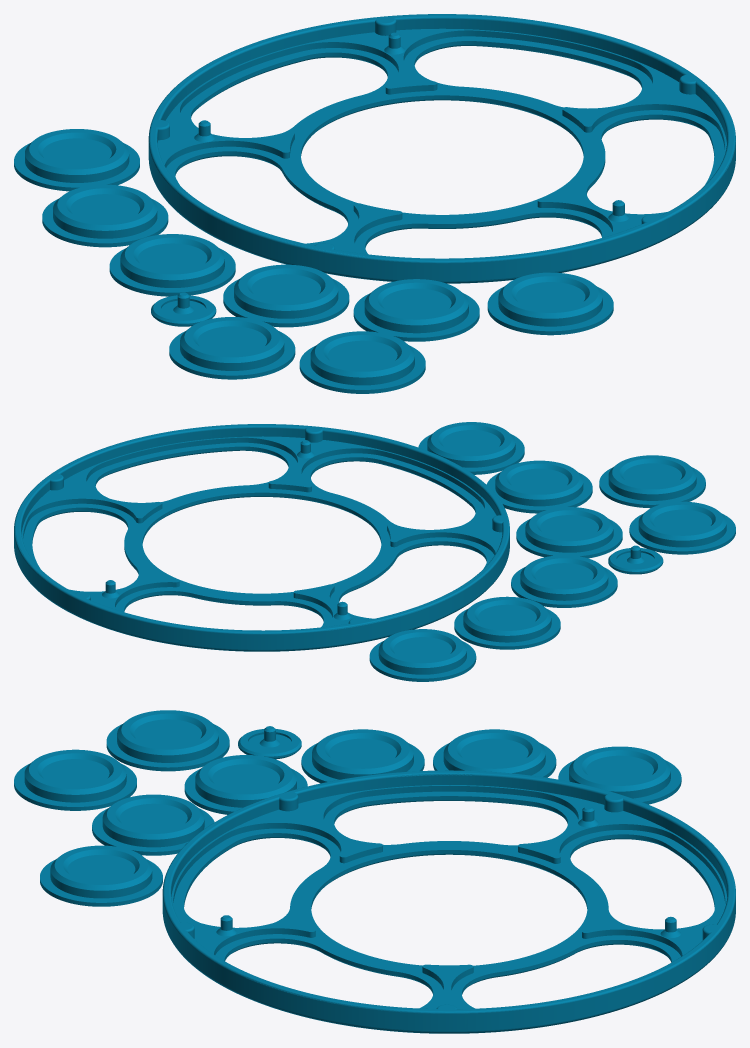
File: treat-puzzle.glb
The picture shows the model from 3 angles, top to bottom: view 1: azimuth 30°, elevation 25°; view 2: azimuth 150°, elevation 25°; view 3: azimuth 270°, elevation 25°; orthographic projection. The views are drawn at different scales.
Parts seen in each view (by area): view 1: top.STEP_fil1, slider.STEP_fil1 (×8), lid.STEP_fil1; view 2: top.STEP_fil1, slider.STEP_fil1 (×8), lid.STEP_fil1; view 3: top.STEP_fil1, slider.STEP_fil1 (×8), lid.STEP_fil1.
Boxes of the visible parts, box(x1,y1,x2,y2) form: top.STEP_fil1: box(148, 14, 735, 283); slider.STEP_fil1 (×8): box(14, 129, 613, 393); lid.STEP_fil1: box(151, 292, 216, 326); top.STEP_fil1: box(14, 424, 509, 651); slider.STEP_fil1 (×8): box(369, 422, 735, 681); lid.STEP_fil1: box(608, 545, 663, 574); top.STEP_fil1: box(162, 770, 735, 1033); slider.STEP_fil1 (×8): box(14, 710, 681, 906); lid.STEP_fil1: box(238, 726, 301, 759).
Bounding box in the file's own units: 0.176 × 0.007 × 0.17.
